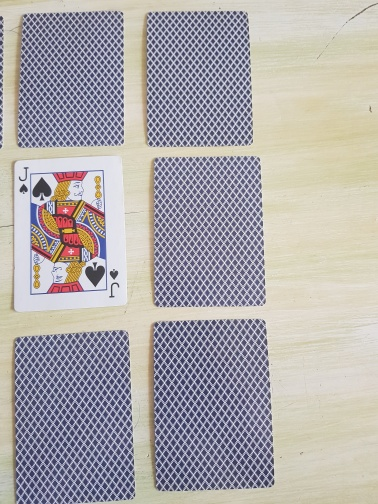jack: (12, 155, 128, 313)
